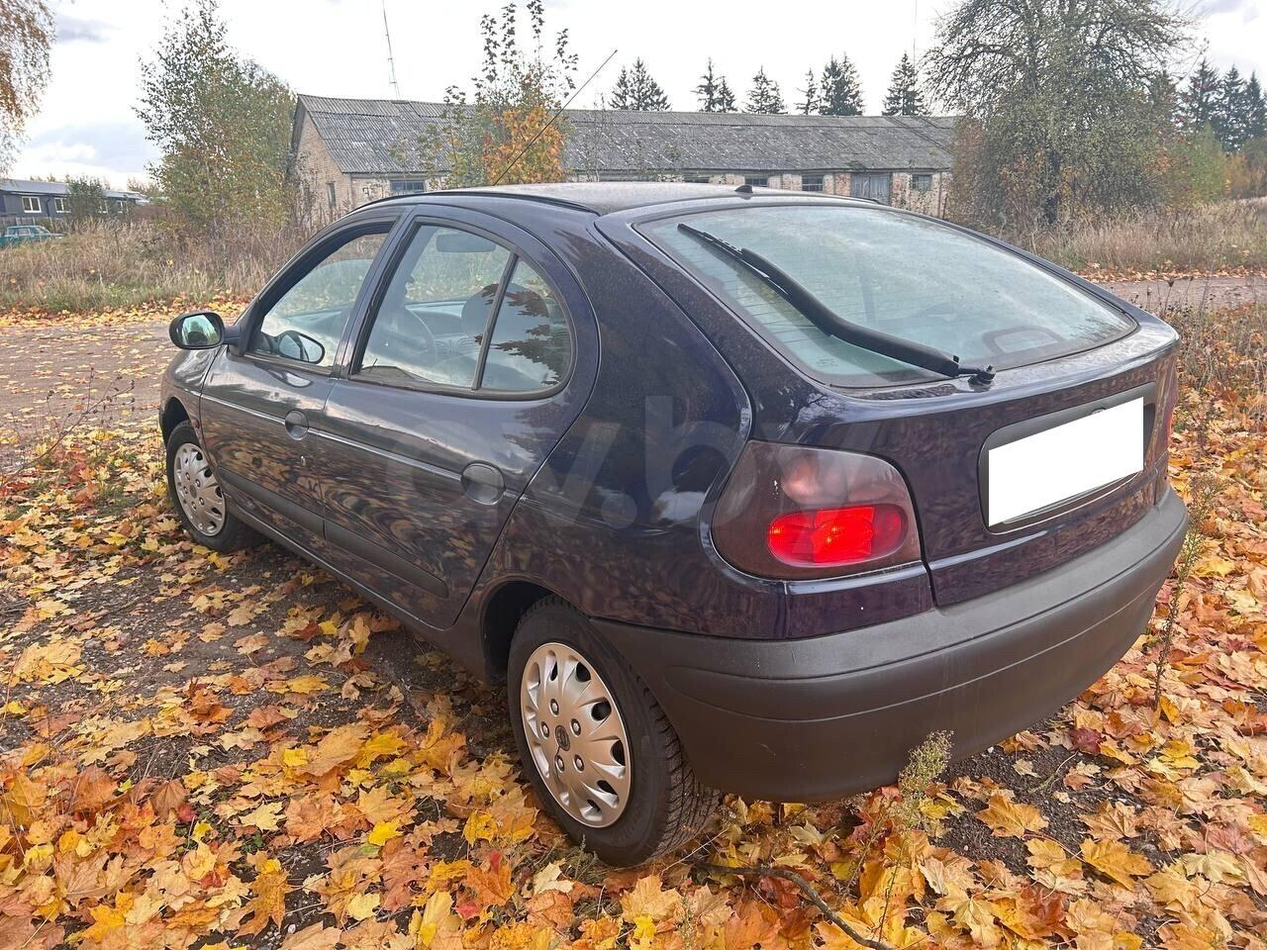Megane_1995-1999: (142, 179, 1206, 841)
